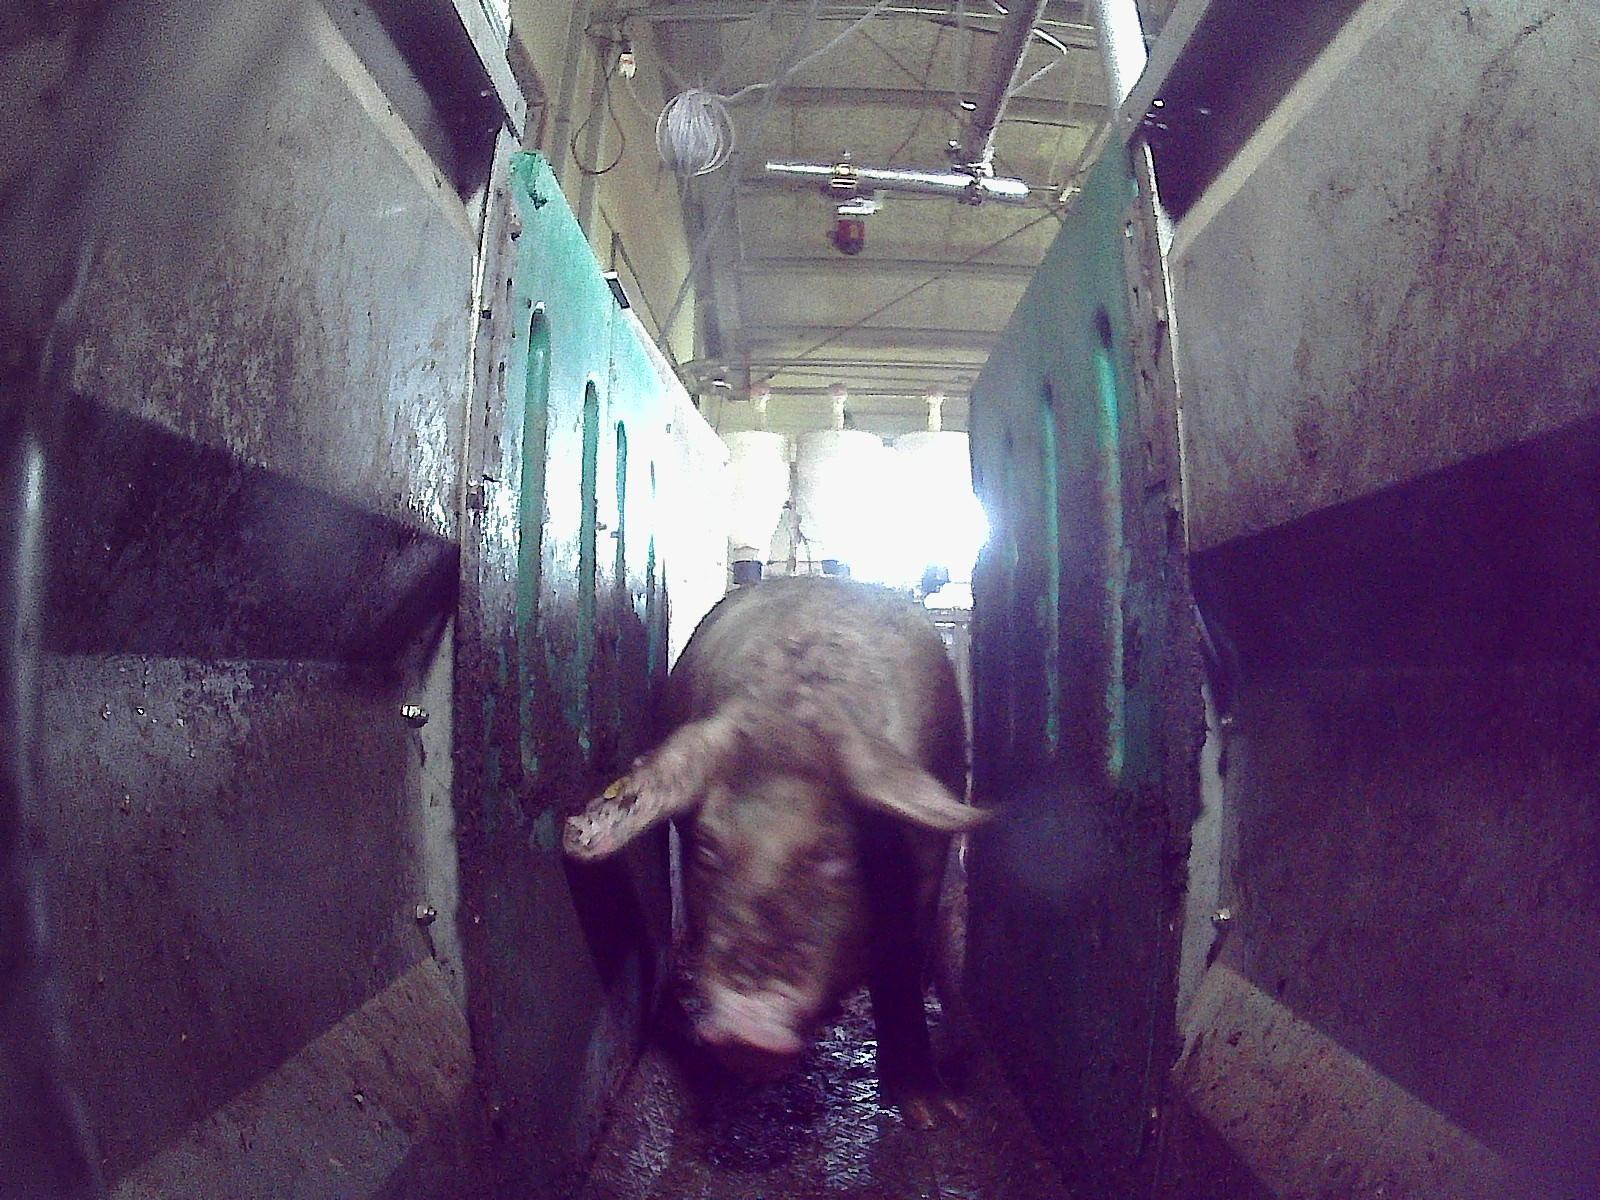Face: (663, 706, 894, 1083)
